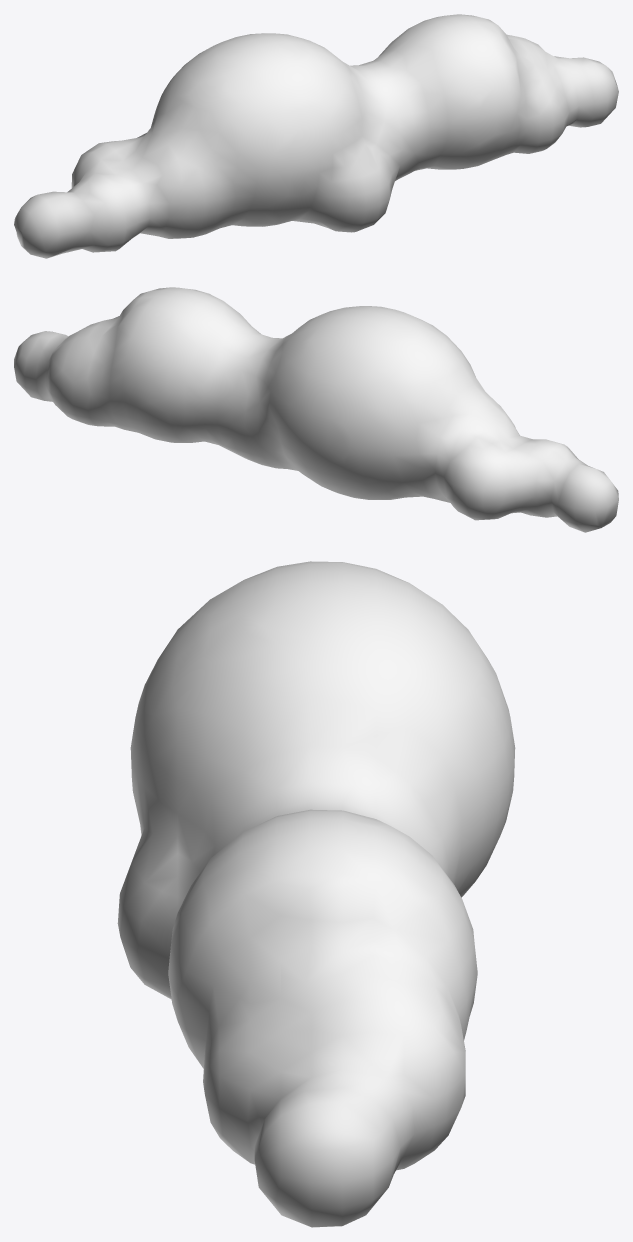
The model's file is Cloud_03.fbx.
The picture shows the model from 3 angles, top to bottom: view 1: azimuth 30°, elevation 25°; view 2: azimuth 150°, elevation 25°; view 3: azimuth 270°, elevation 25°; orthographic projection. The views are drawn at different scales.
Parts seen in each view (by area): view 1: Cloud_03; view 2: Cloud_03; view 3: Cloud_03.
Part boxes in pixels (bbox=[...]): Cloud_03: bbox=[14, 14, 618, 258]; Cloud_03: bbox=[14, 287, 618, 532]; Cloud_03: bbox=[117, 561, 515, 1227].
Size of the model in its own units: 1191 by 340 by 344.
